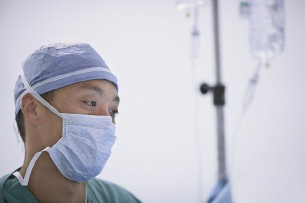Mask: (37, 86, 130, 179)
